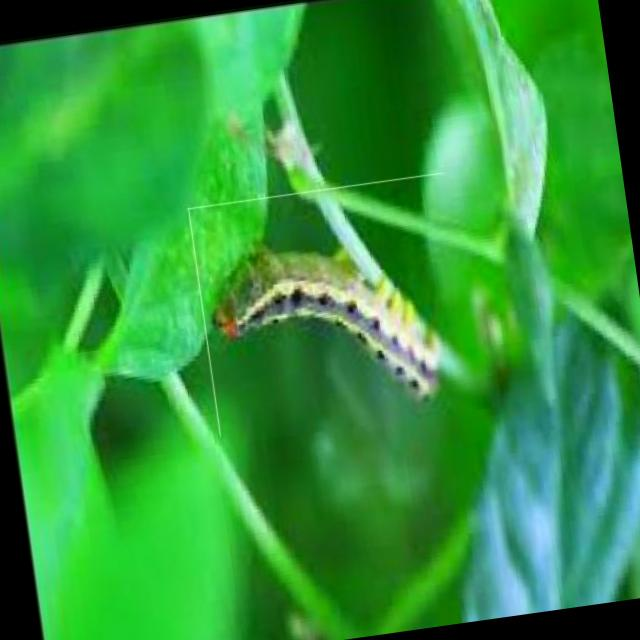pest: (205, 243, 450, 427)
